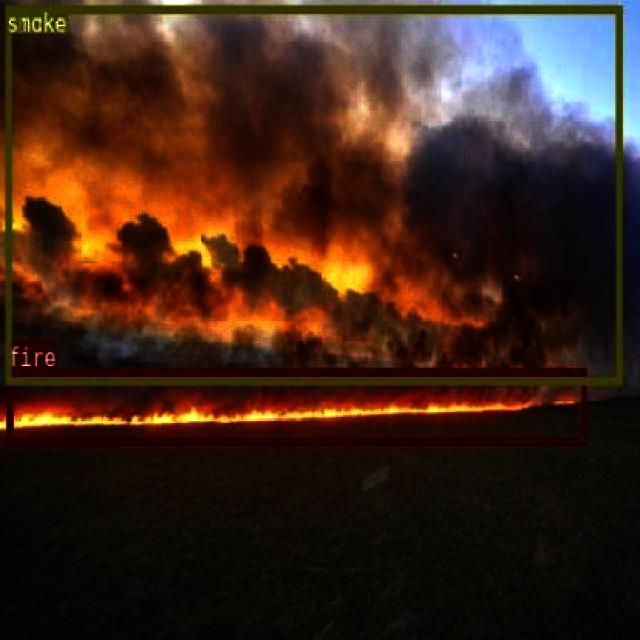fire: (6, 366, 585, 443)
smoke: (4, 4, 620, 382)
